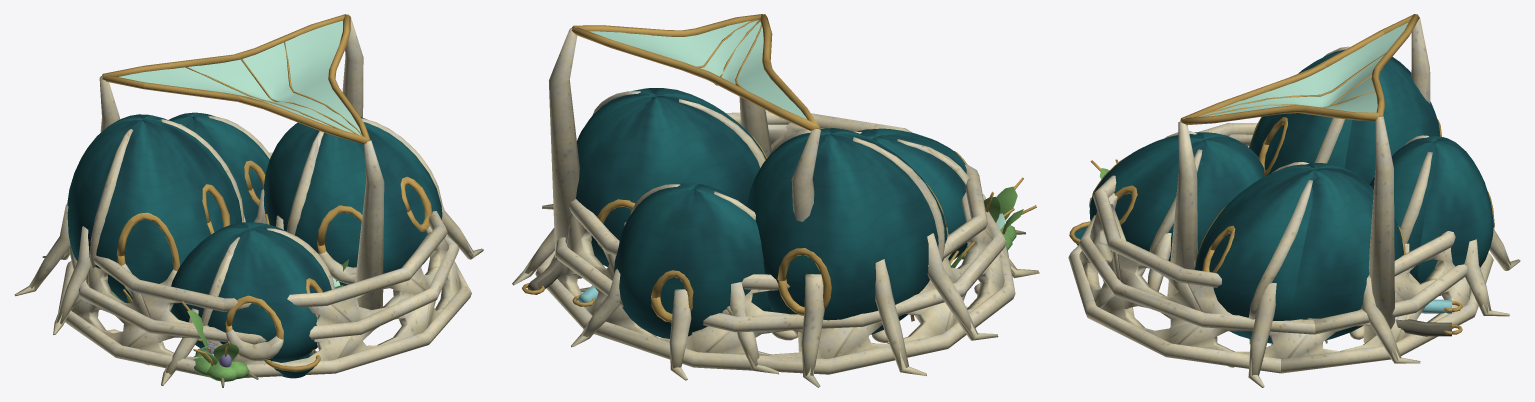
Rendered from 04_symbiotic_court_lod.glb.
3 views of the same model, side by side, from view 1: azimuth 30°, elevation 25°; view 2: azimuth 150°, elevation 25°; view 3: azimuth 270°, elevation 25° (orthographic). The views are drawn at different scales.
Visible parts, largest first — view 1: GrowthFrameMesh.002, GrowthShellMesh.002, GrowthSoftMesh.002, DormancyMesh.002; view 2: GrowthShellMesh.002, GrowthFrameMesh.002, GrowthSoftMesh.002, DormancyMesh.002; view 3: GrowthFrameMesh.002, GrowthShellMesh.002, GrowthSoftMesh.002, DormancyMesh.002.
Boxes of the visible parts, left/top/right/bottom form: GrowthFrameMesh.002: left=14, top=14, right=483, bottom=385; GrowthShellMesh.002: left=67, top=112, right=442, bottom=378; GrowthSoftMesh.002: left=112, top=20, right=361, bottom=387; DormancyMesh.002: left=124, top=168, right=424, bottom=341; GrowthShellMesh.002: left=576, top=88, right=966, bottom=338; GrowthFrameMesh.002: left=512, top=14, right=1039, bottom=387; GrowthSoftMesh.002: left=589, top=20, right=1025, bottom=321; DormancyMesh.002: left=604, top=207, right=820, bottom=313; GrowthFrameMesh.002: left=1068, top=14, right=1520, bottom=387; GrowthShellMesh.002: left=1074, top=49, right=1493, bottom=343; GrowthSoftMesh.002: left=1099, top=22, right=1408, bottom=343; DormancyMesh.002: left=1115, top=124, right=1283, bottom=272.
Bounding box in the file's own units: 4.91 × 2.58 × 4.37.
11 materials, 11 textured.
